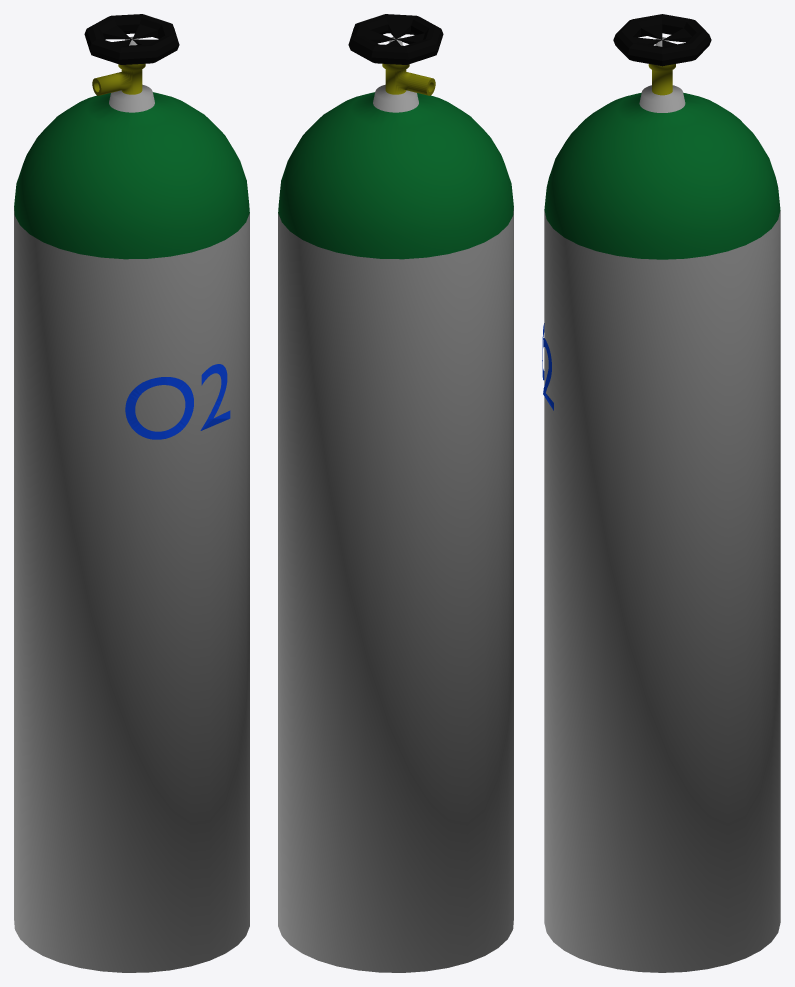
Rendered from OxygenTank.glb.
The picture shows the model from 3 angles, left to right: view 1: azimuth 30°, elevation 25°; view 2: azimuth 150°, elevation 25°; view 3: azimuth 270°, elevation 25°; orthographic projection.
Visible parts, largest first — view 1: OxygenTank; view 2: OxygenTank; view 3: OxygenTank.
Part boxes in pixels (bbox=[...]): OxygenTank: bbox=[14, 14, 249, 972]; OxygenTank: bbox=[278, 14, 513, 972]; OxygenTank: bbox=[542, 14, 780, 972].
Size of the model in its own units: 0.6 by 2.5 by 0.6048.
